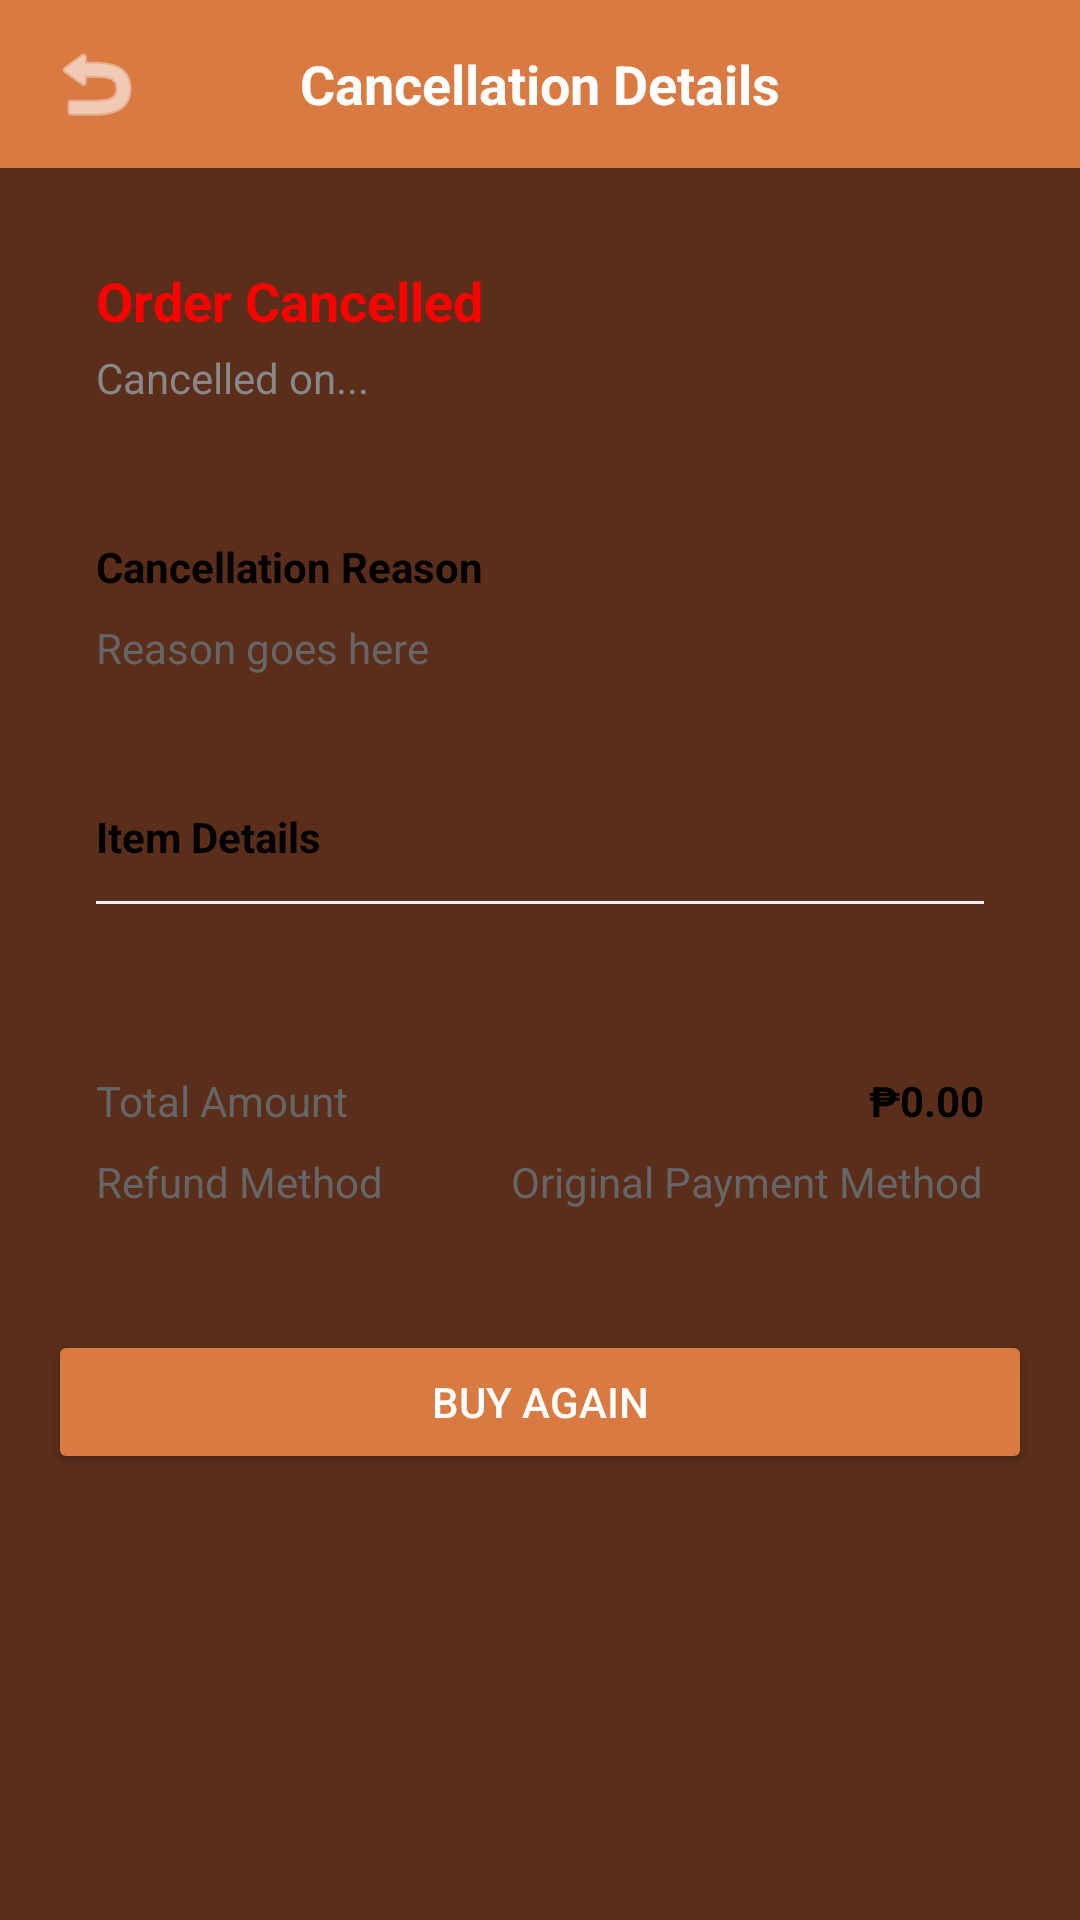

Icons on this 1080px×1920px Android screen, each with the point to tap as (x=x, y=y):
Back: (x=97, y=84)
